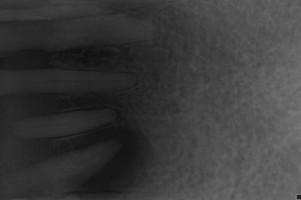Dental Caries: (53, 117, 153, 200)
